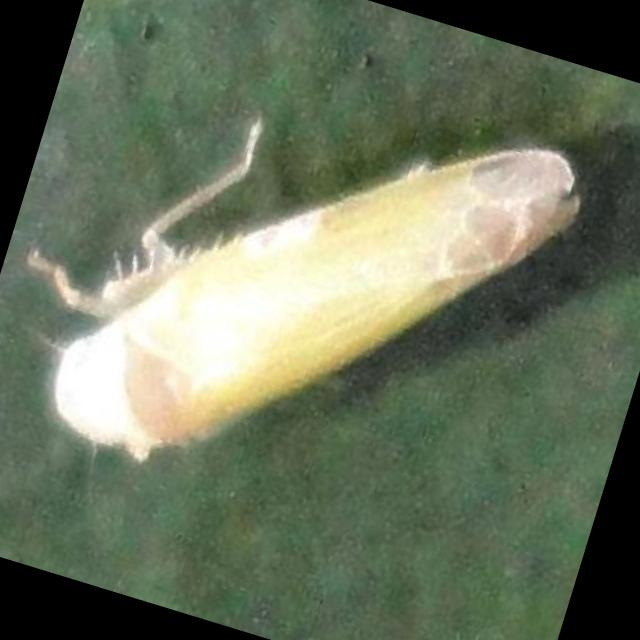green-leafhopper: (27, 119, 583, 461)
